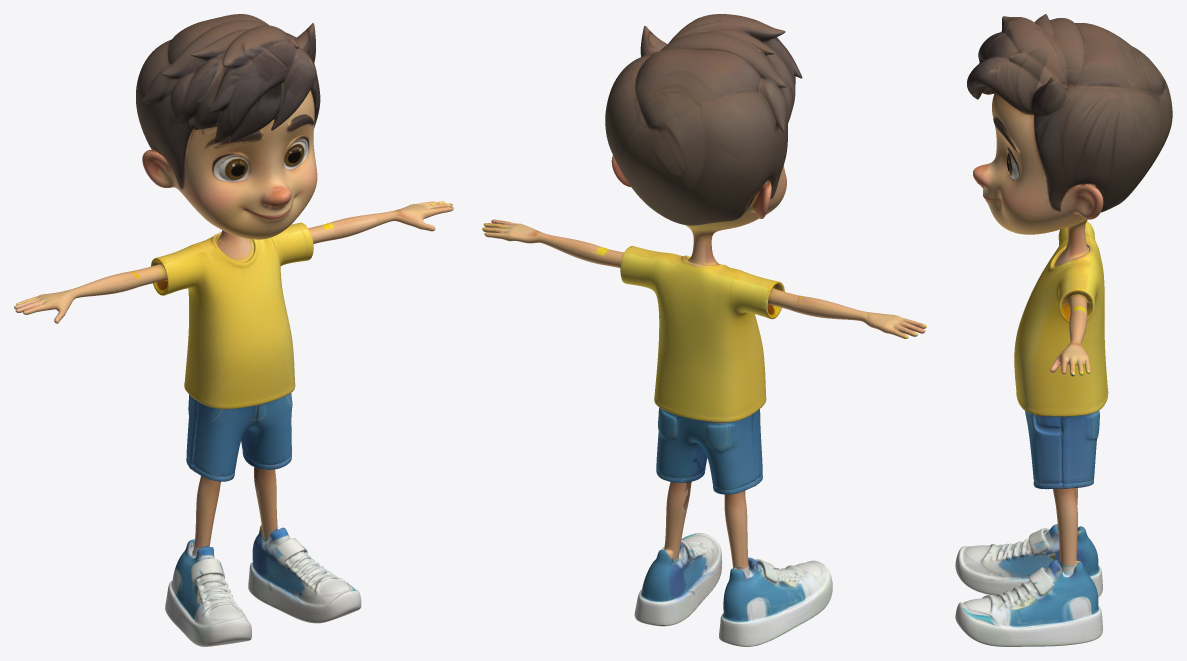
The model's file is Meshy_AI_drawtoprotect_boy1_0307141906_texture.fbx.
3 views of the same model, side by side, from view 1: azimuth 30°, elevation 25°; view 2: azimuth 150°, elevation 25°; view 3: azimuth 270°, elevation 25° (orthographic).
Parts seen in each view (by area): view 1: Mesh_0; view 2: Mesh_0; view 3: Mesh_0.
Boxes of the visible parts, x1,y1,x2,y2 form: Mesh_0: (14,14,453,646); Mesh_0: (482,14,926,646); Mesh_0: (955,14,1172,646).
Size of the model in its own units: 148 by 190 by 63.68.
Materials: 1 (1 with a texture image).
